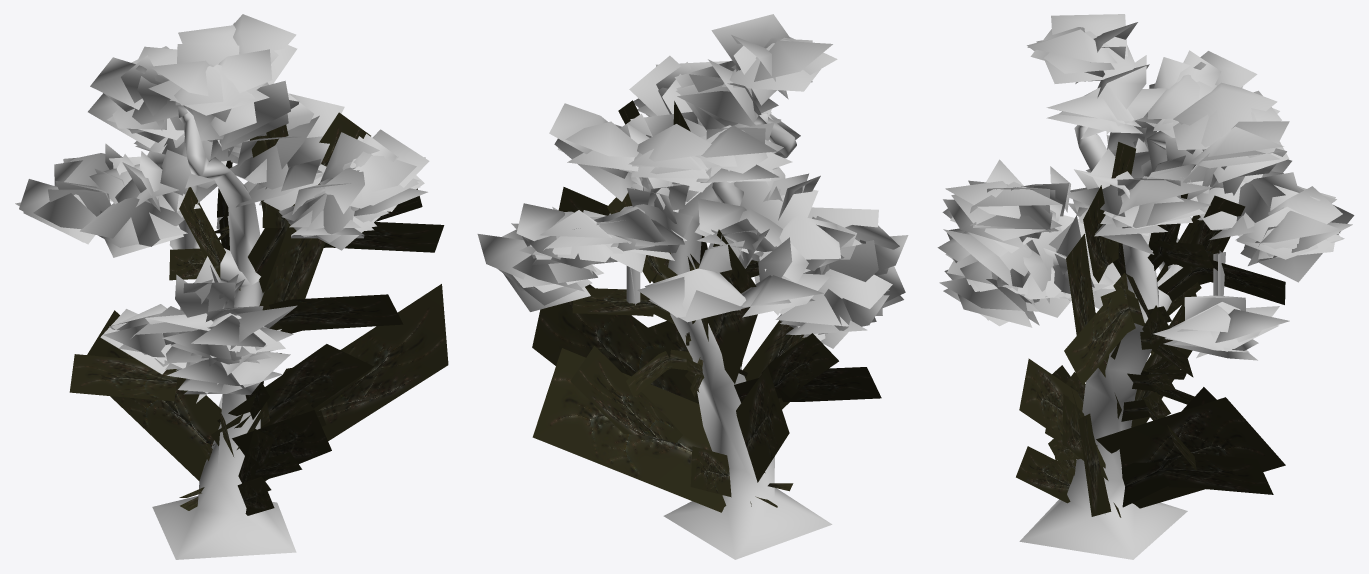
File: Tree10Lod1.FBX
3 renders of one model, left to right at view 1: azimuth 30°, elevation 25°; view 2: azimuth 150°, elevation 25°; view 3: azimuth 270°, elevation 25°, orthographic.
Visible parts, largest first — view 1: Tree10Lod1; view 2: Tree10Lod1; view 3: Tree10Lod1.
Boxes of the visible parts, x1,y1,x2,y2 form: Tree10Lod1: (15,14,448,559); Tree10Lod1: (477,14,908,559); Tree10Lod1: (937,14,1354,559).
Size of the model in its own units: 252 by 320 by 245.
